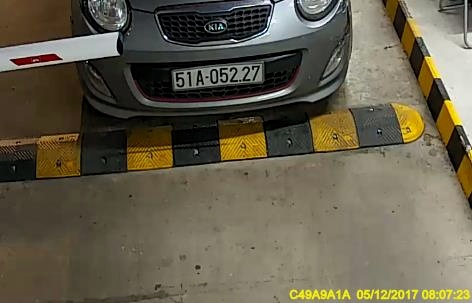plate: (169, 60, 262, 86)
